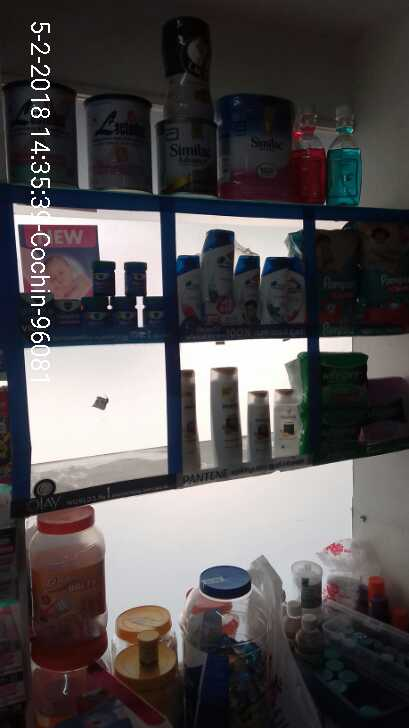vicks: (92, 256, 146, 301)
